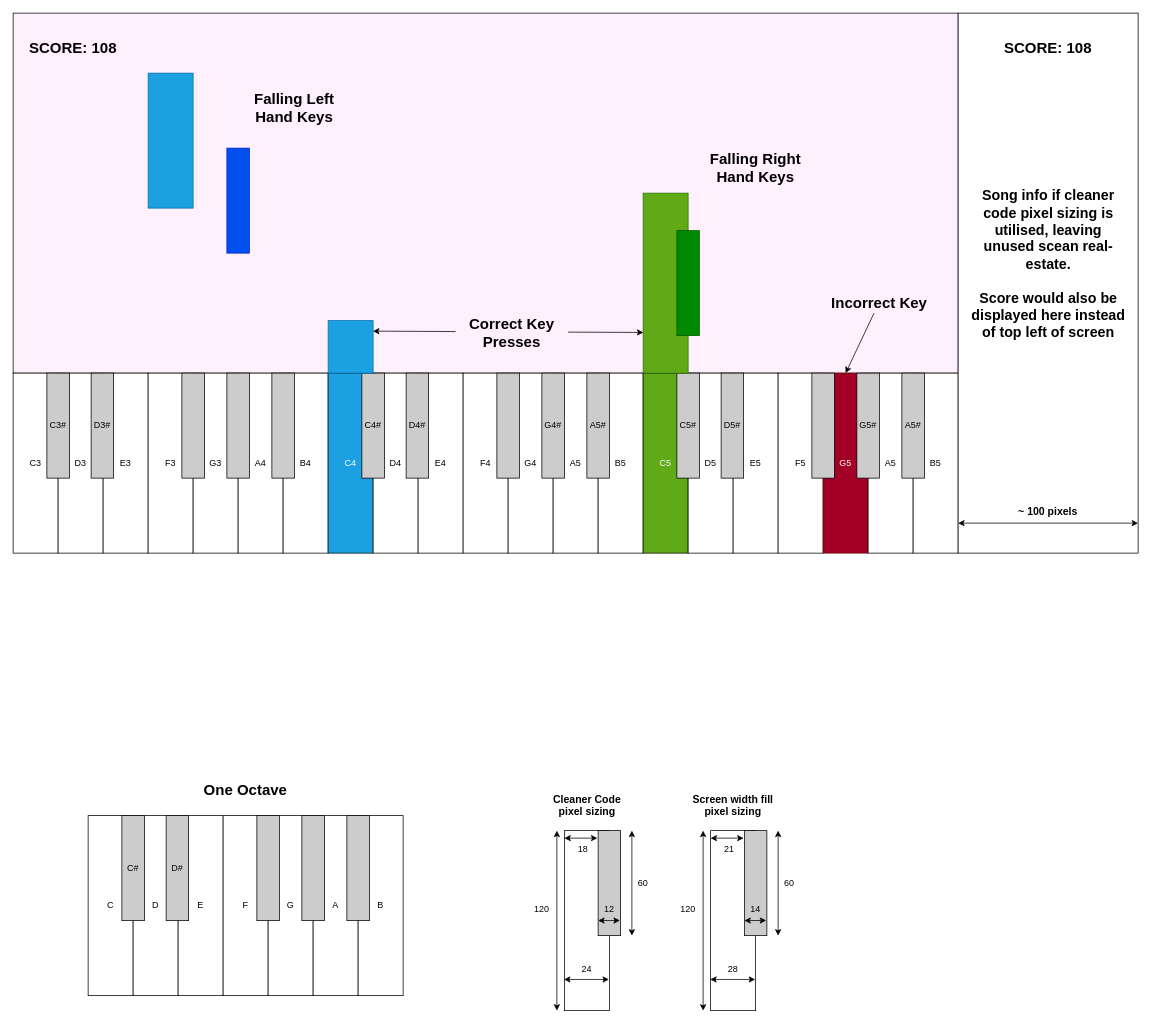
The diagram is 1158 pixels wide and 1031 high, and some of its shapes have lost their labels. Here are the shapes that lost their labels. From the top down, the centre of each, then its label:
At (192,425): "F3#".
At (237,425): "G3#".
At (282,425): "A4#".
At (507,425): "F4#".
At (822,425): "F5#".
At (267,868): "F#".
At (312,868): "G#".
At (357,868): "A#".
